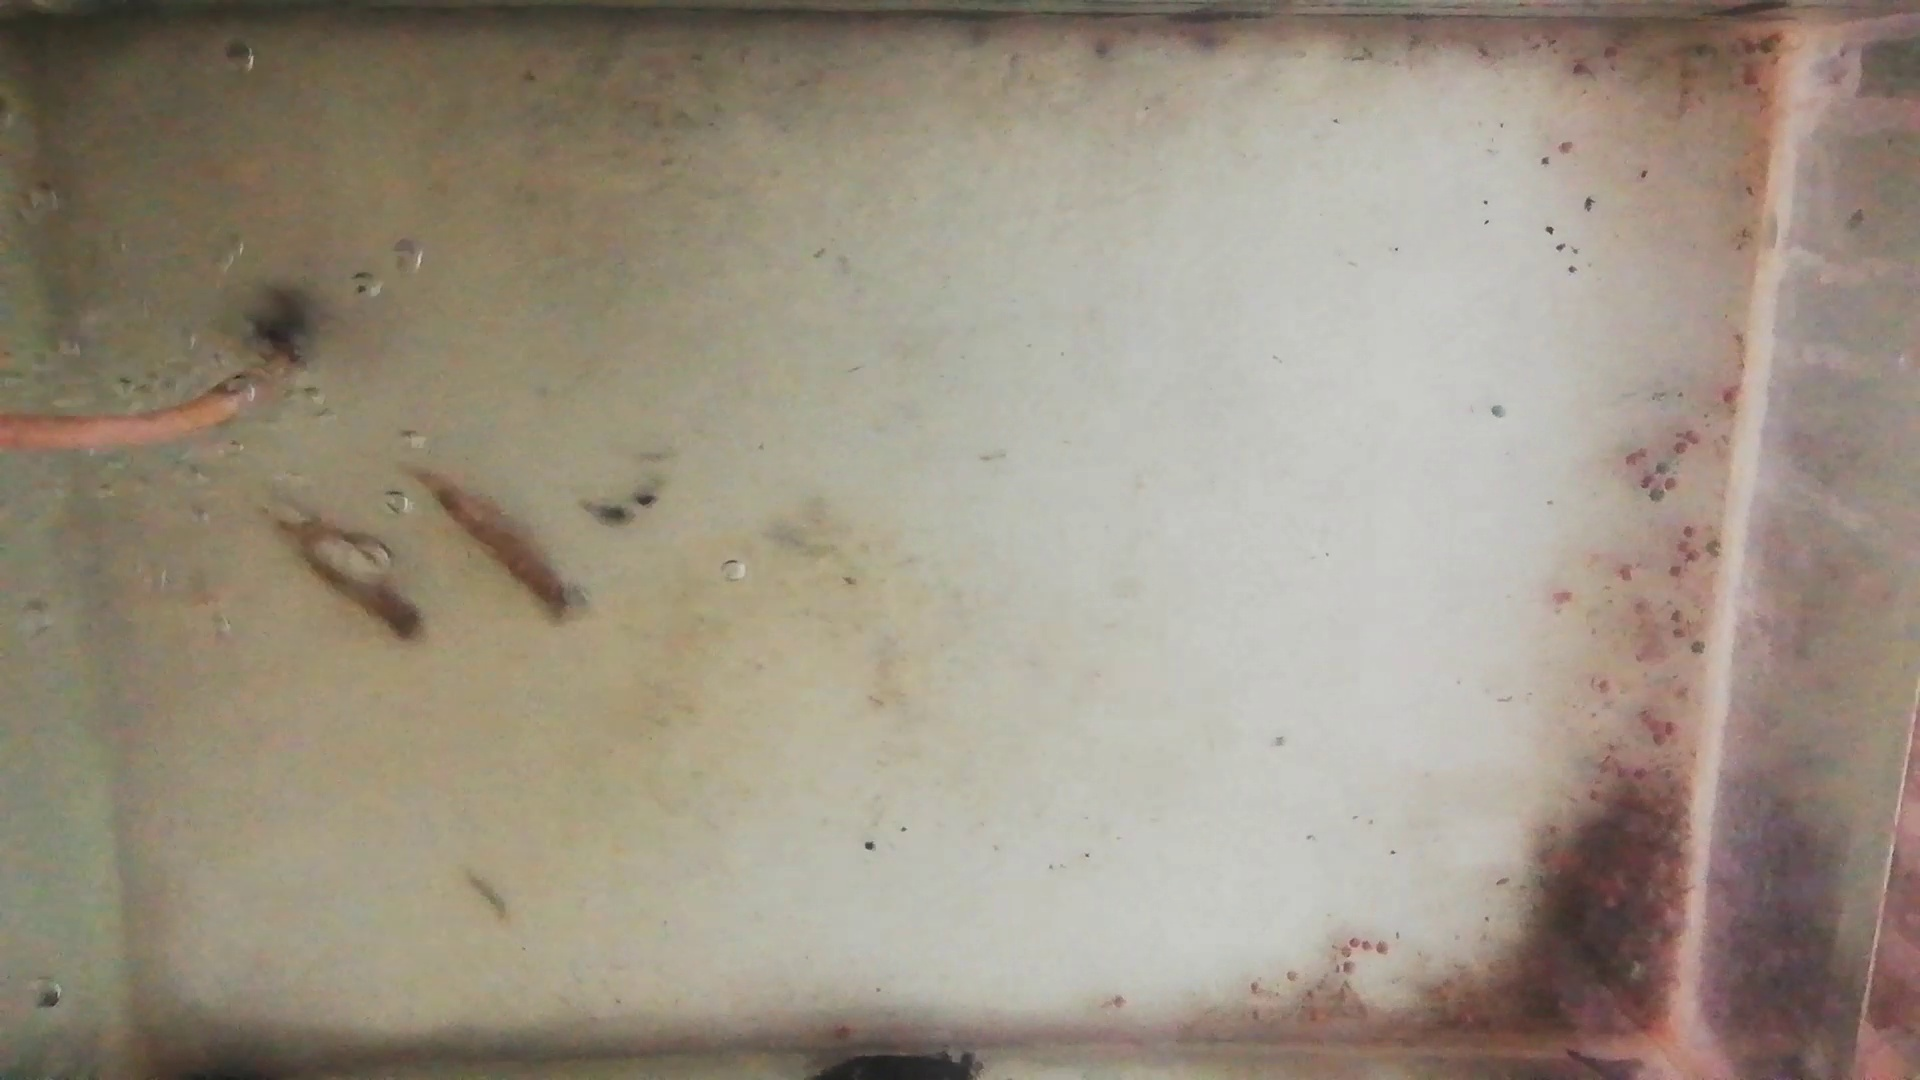fish: (411, 465, 580, 622), (266, 509, 425, 642)
